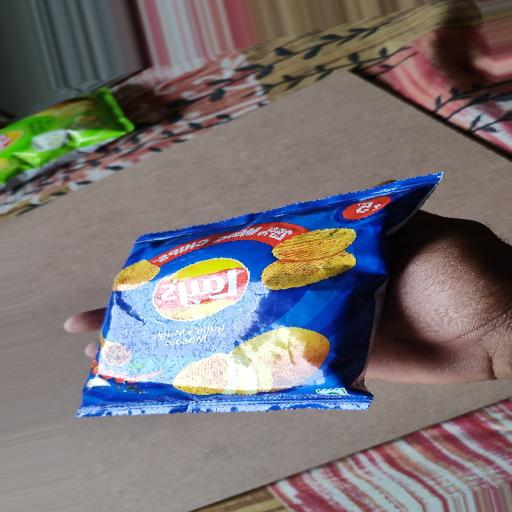Lays Blue (India Masala magic): (65, 154, 459, 449)
